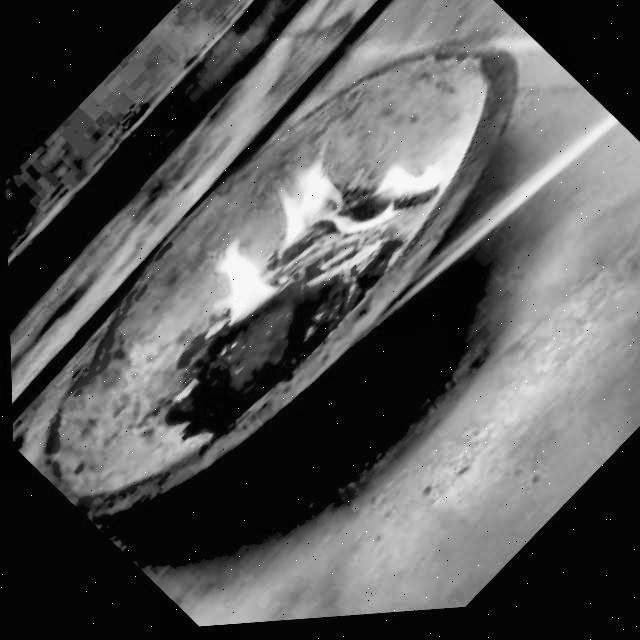Fire: (180, 72, 475, 371)
